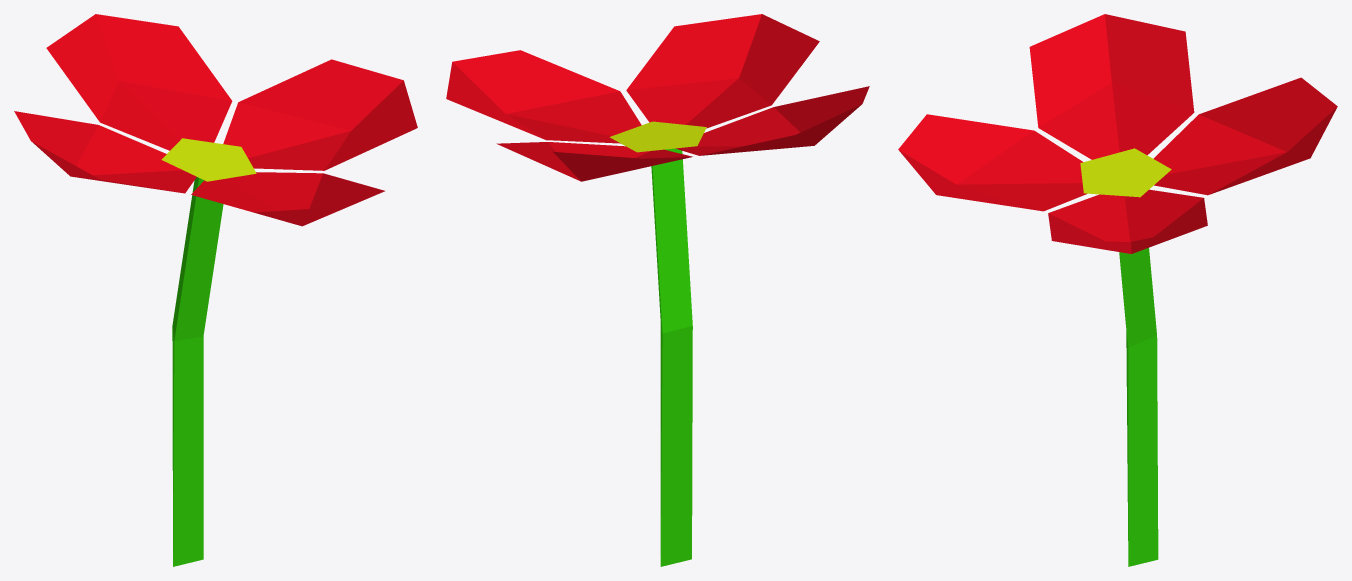
Rendered from flower.glb.
The picture shows the model from 3 angles, left to right: view 1: azimuth 30°, elevation 25°; view 2: azimuth 150°, elevation 25°; view 3: azimuth 270°, elevation 25°; orthographic projection. The views are drawn at different scales.
Parts seen in each view (by area): view 1: petals, stem, center; view 2: petals, stem, center; view 3: petals, stem, center.
Part boxes in pixels (<box>): petals: <box>14,14,417,226</box>; stem: <box>172,177,223,566</box>; center: <box>161,138,256,181</box>; petals: <box>446,14,869,181</box>; stem: <box>651,148,692,566</box>; center: <box>609,121,706,152</box>; petals: <box>898,14,1337,253</box>; stem: <box>1119,248,1158,566</box>; center: <box>1080,148,1171,197</box>.
Bounding box in the file's own units: 7.91 × 9.24 × 7.93.
